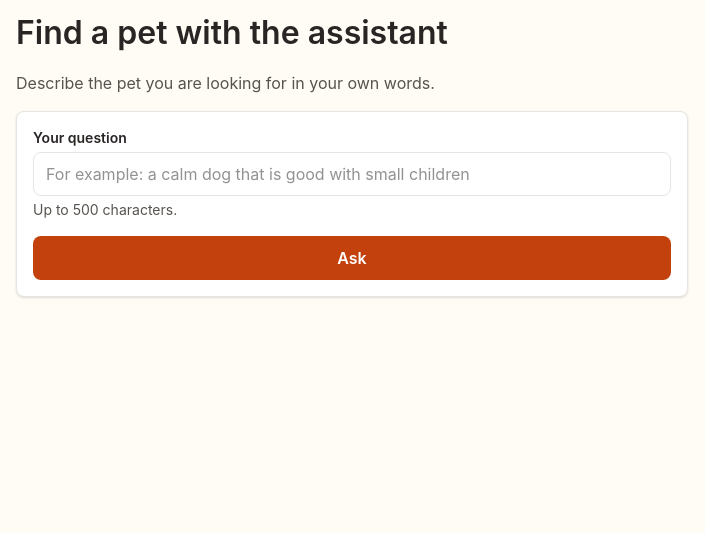
it: AssistantPage › sends the trimmed question to the assistant endpoint through the client
Type "   a calm dog for children  " into the field labelled "Your question" at (352, 174), box [33,152,671,196]
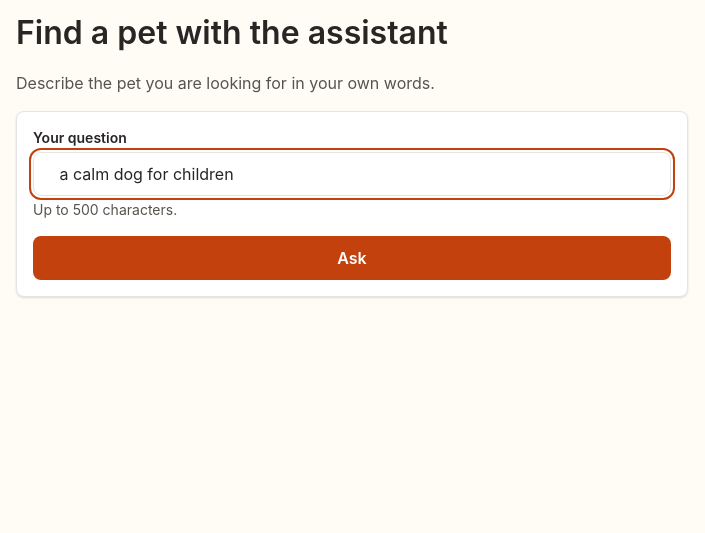
Click the button "Ask" at (352, 258), box [33,236,671,280]
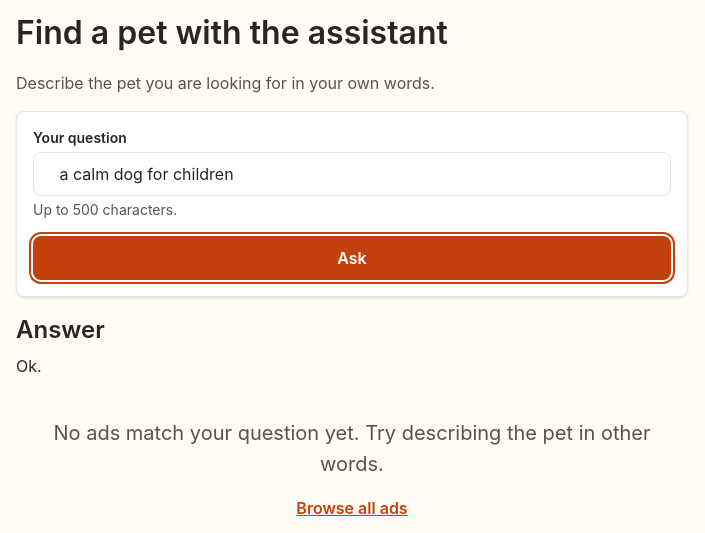
Expected: the text "Ok." is shown, [16,356,42,376]
